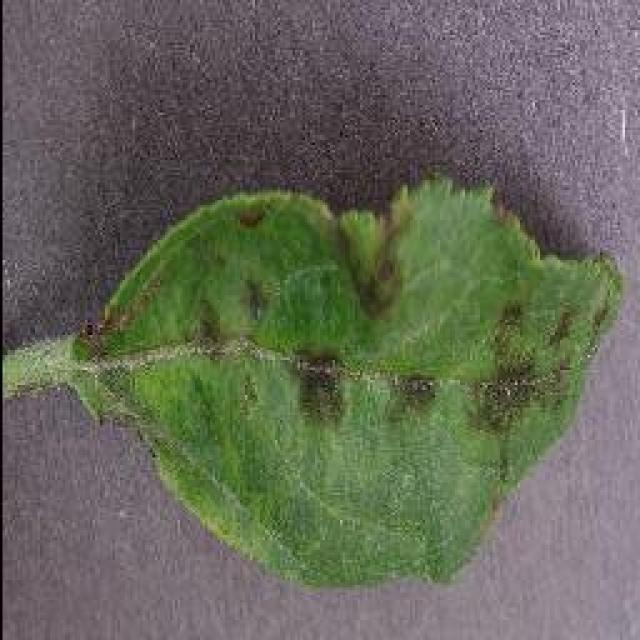apple scab disease: (7, 168, 625, 590)
